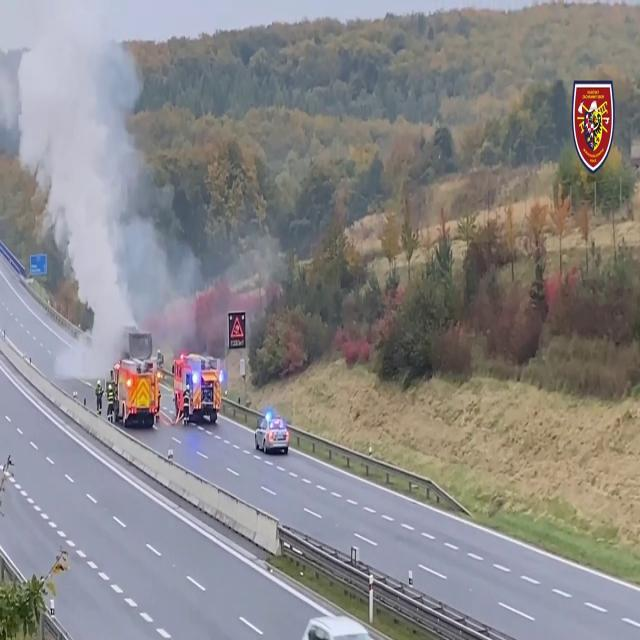Smoke: (0, 0, 198, 357)
